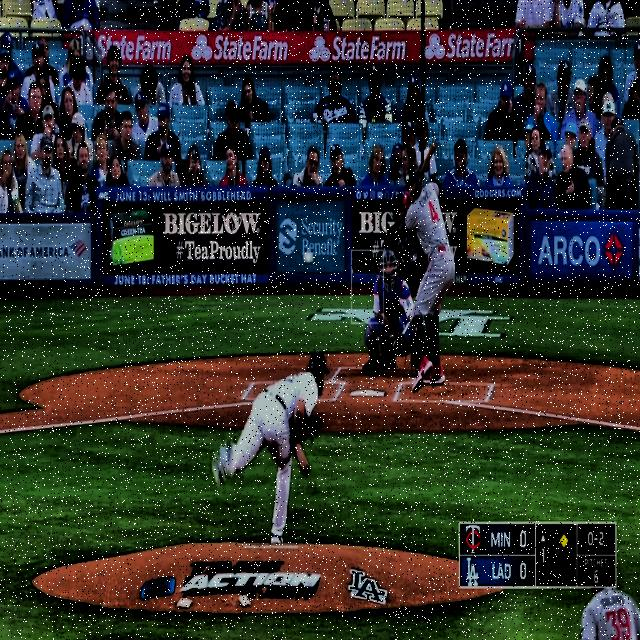baseball: (302, 250, 314, 266)
